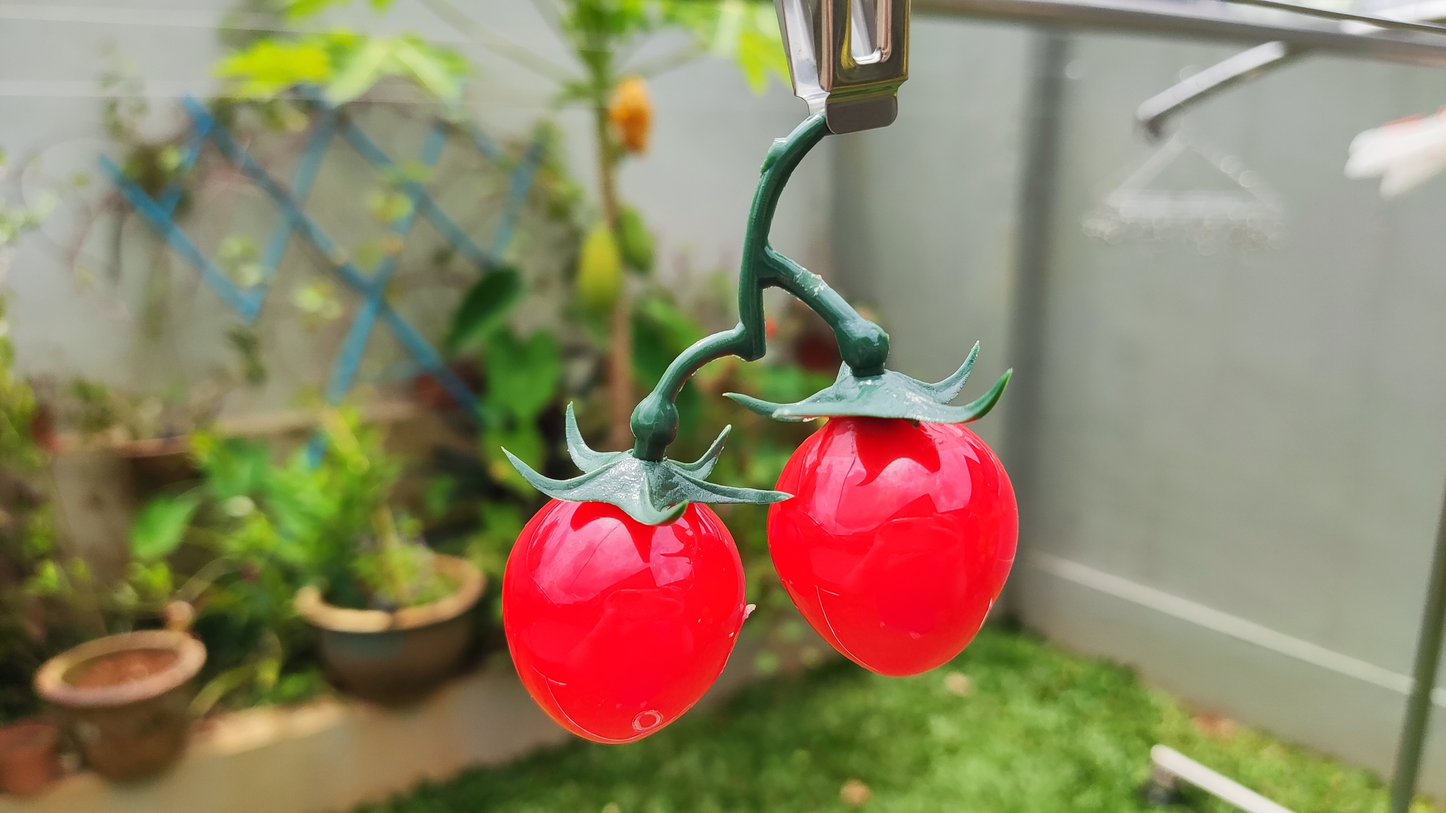peduncle: (745, 119, 824, 240)
strawberry: (768, 416, 1019, 676), (502, 499, 746, 743)
